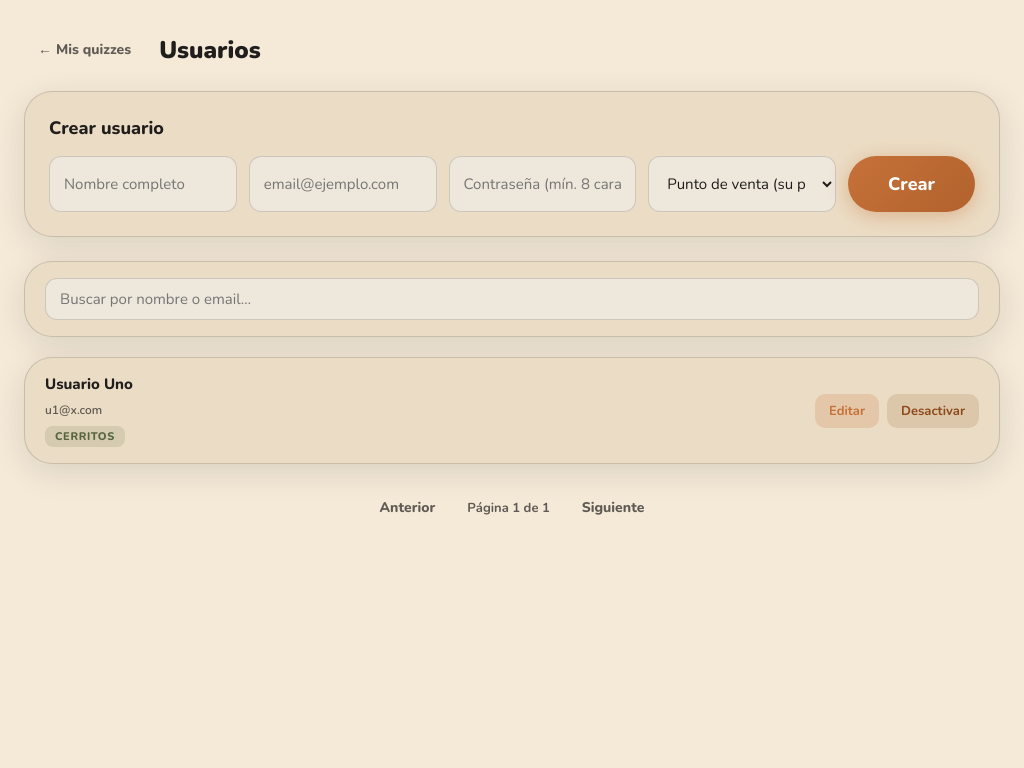
Test: UsersView — edit popup › opens pre-filled with the row's current name and store
This screenshot has width=1024, height=768.
What coordinates should you click on to do the following:
click the button with class "btn-edit"
I would click on:
 (847, 410)
Its box is [815,394,879,428].
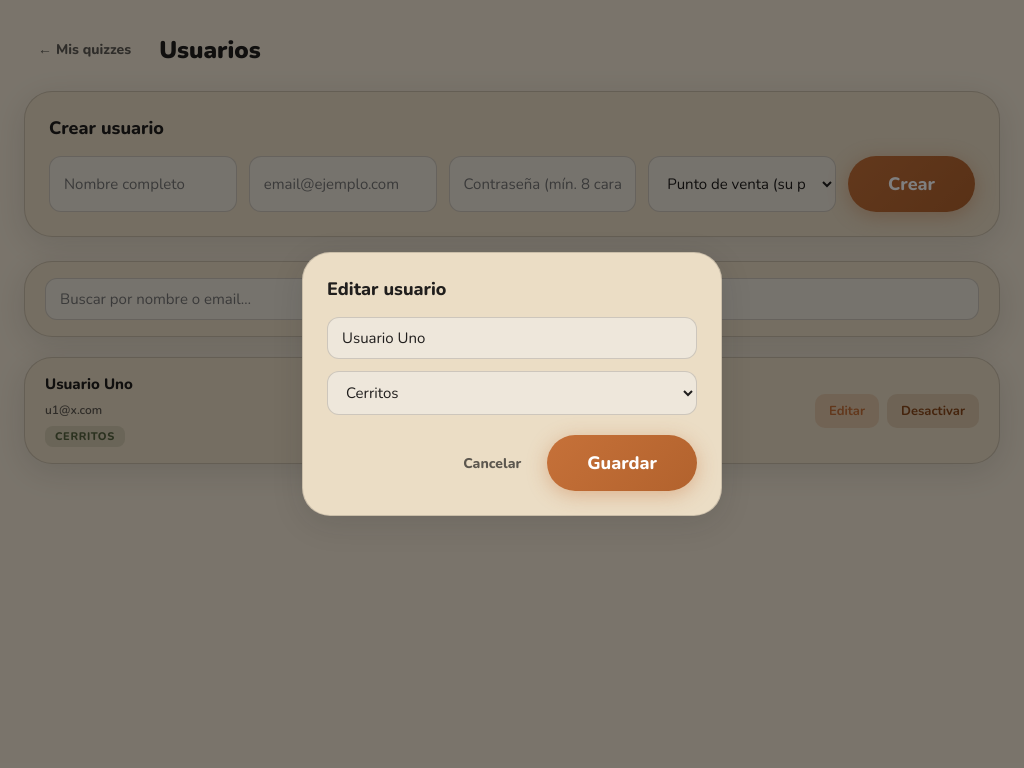
Expected: the field with id "edit-full-name-input" holds "Usuario Uno", [327,317,697,359]
Expected: the dropdown with id "edit-punto-de-venta-select" shows "Cerritos", [327,371,697,415]
